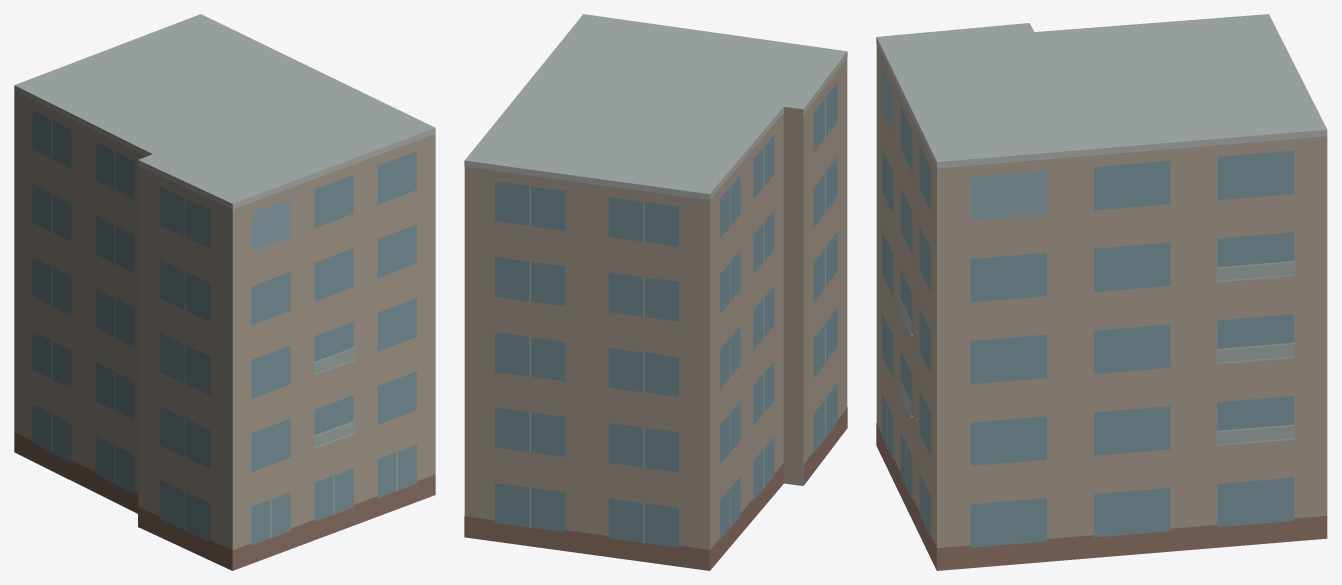
File: survey-upis-32708161.glb
3 renders of one model, left to right at view 1: azimuth 30°, elevation 25°; view 2: azimuth 150°, elevation 25°; view 3: azimuth 270°, elevation 25°, orthographic. The views are drawn at different scales.
Visible parts, largest first — view 1: survey-upis-32708161.tmp; view 2: survey-upis-32708161.tmp; view 3: survey-upis-32708161.tmp.
Part boxes in pixels (x1,y1,x2,y2): survey-upis-32708161.tmp: [14, 14, 435, 570]; survey-upis-32708161.tmp: [464, 14, 847, 570]; survey-upis-32708161.tmp: [876, 14, 1327, 570].
Bounding box in the file's own units: 11.85 × 15.25 × 15.25.
